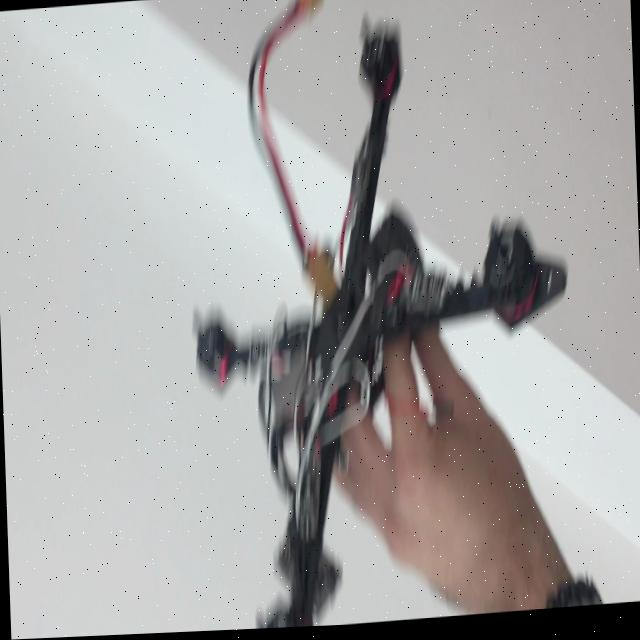drone: (170, 0, 586, 634)
